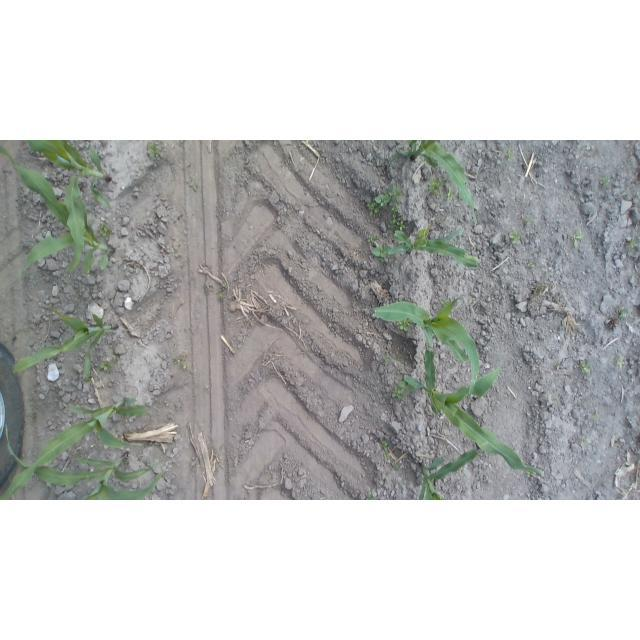Maize: (403, 347, 546, 477), (1, 140, 116, 276), (1, 395, 148, 500), (4, 422, 169, 500), (363, 296, 480, 405), (23, 141, 111, 274), (13, 305, 118, 379), (388, 140, 478, 224), (388, 224, 481, 269), (416, 446, 480, 500)
Weeds: (366, 184, 404, 216), (392, 380, 417, 400), (388, 205, 406, 232), (371, 243, 392, 263), (428, 176, 444, 196), (99, 220, 112, 240), (397, 317, 413, 332), (572, 230, 584, 248), (148, 142, 160, 158), (187, 173, 197, 192), (510, 230, 521, 244), (618, 302, 627, 319), (601, 176, 612, 188), (581, 362, 592, 374), (100, 361, 113, 371), (440, 299, 454, 308), (380, 439, 389, 452), (446, 189, 457, 199), (366, 234, 378, 243), (506, 149, 515, 161), (615, 356, 622, 369), (392, 462, 402, 471), (629, 239, 638, 249), (366, 490, 374, 500), (85, 374, 93, 384), (384, 353, 391, 363), (395, 353, 403, 361), (172, 357, 180, 365), (526, 470, 533, 478), (580, 438, 588, 445), (592, 413, 600, 420), (218, 291, 225, 299), (398, 241, 407, 247), (181, 363, 188, 370), (527, 261, 535, 267), (551, 396, 557, 404), (87, 218, 93, 226), (384, 453, 390, 460), (525, 219, 532, 225), (113, 355, 119, 362), (174, 253, 182, 258), (221, 281, 227, 287), (472, 299, 477, 306), (125, 457, 130, 462), (533, 289, 536, 292)
